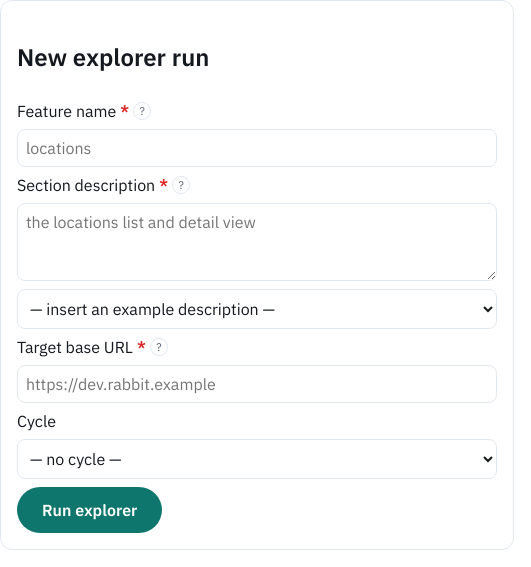
Test: NewExplorerRunForm (D8 dashboard trigger UI) › picking an example description fills the textarea (onboarding-friction fix)
This screenshot has width=531, height=567.
Select "billing and invoices" in the dropdown named "Insert an example section description". click: {"x": 257, "y": 309}
box: [17,289,497,329]
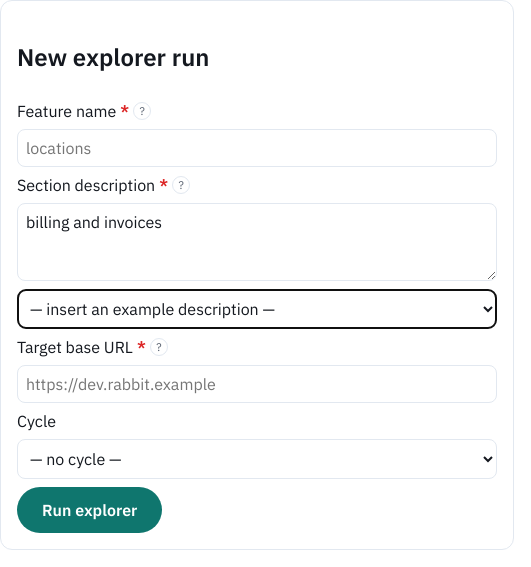
Expected: the text box labelled "Section description" holds "billing and invoices", [17,203,497,281]
